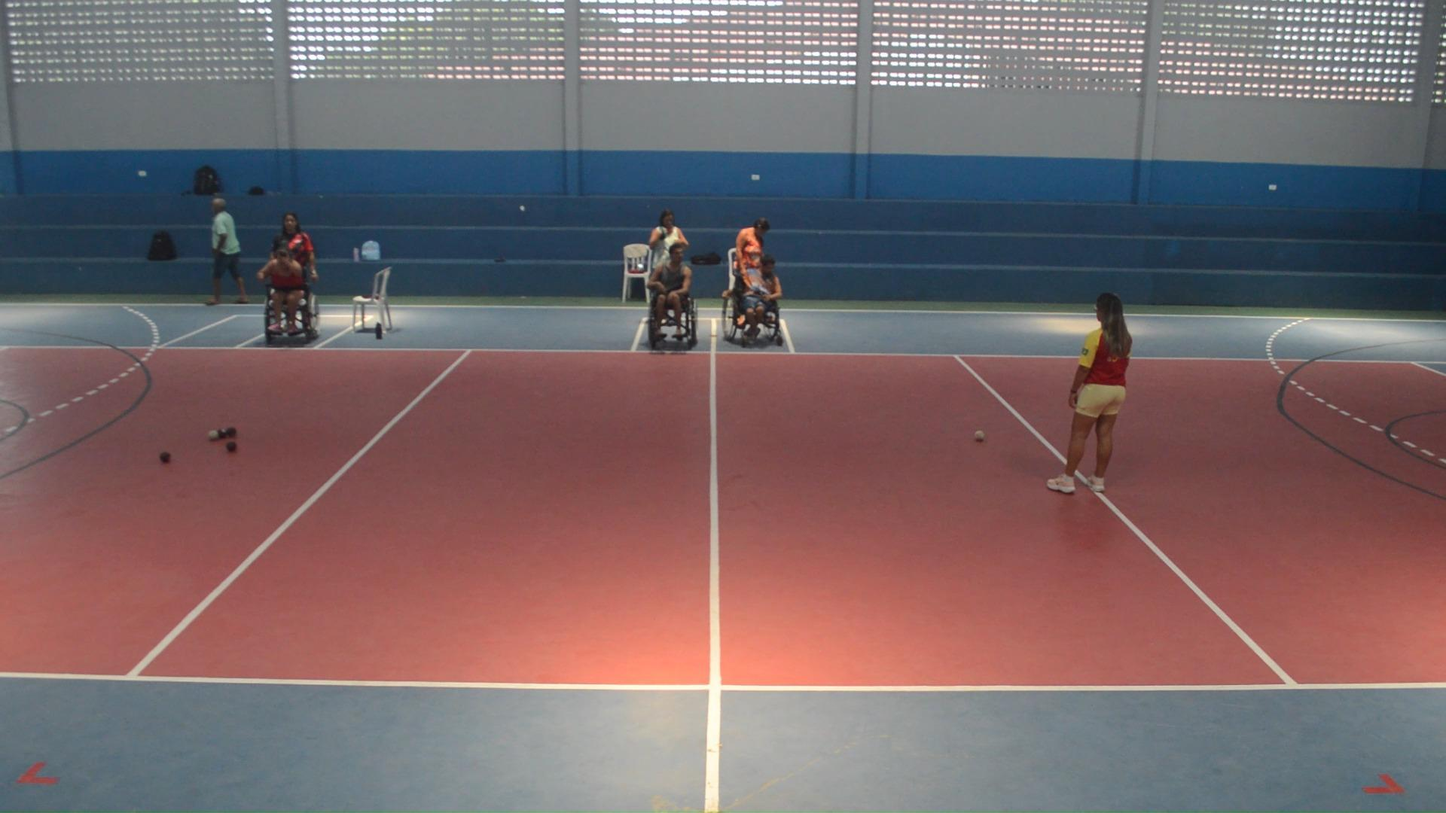red_ball: (158, 451, 171, 464), (224, 441, 238, 453), (225, 426, 237, 439), (216, 428, 227, 439)
white_ball: (207, 429, 220, 442), (974, 430, 985, 442)
